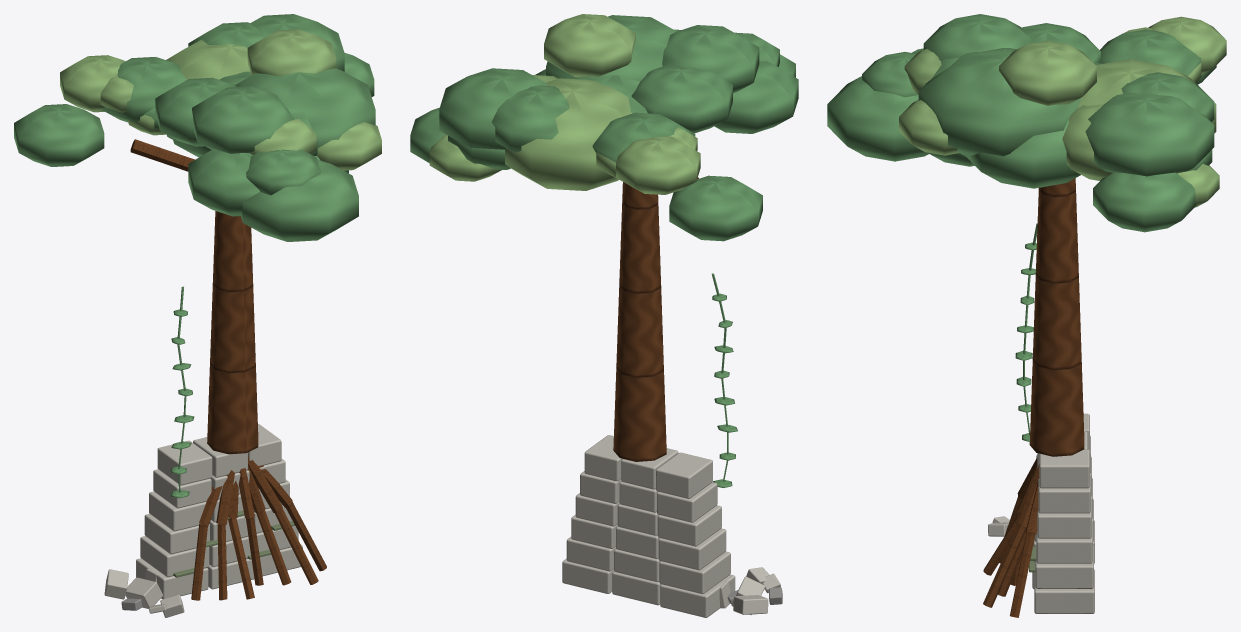
Rendered from jungle-temple-and-stone-city-strangler-fig-on-ruin-b624982e__36138.glb.
3 renders of one model, left to right at view 1: azimuth 30°, elevation 25°; view 2: azimuth 150°, elevation 25°; view 3: azimuth 270°, elevation 25°, orthographic. The views are drawn at different scales.
Visible parts, largest first — view 1: strangler-fig-on-ruin; view 2: strangler-fig-on-ruin; view 3: strangler-fig-on-ruin.
Boxes of the visible parts, x1=… form: strangler-fig-on-ruin: x1=14, y1=14, x2=381, y2=617; strangler-fig-on-ruin: x1=410, y1=14, x2=798, y2=617; strangler-fig-on-ruin: x1=827, y1=14, x2=1226, y2=617.
Bounding box in the file's own units: 6.25 × 9.33 × 5.94.
6 materials, 6 textured.
